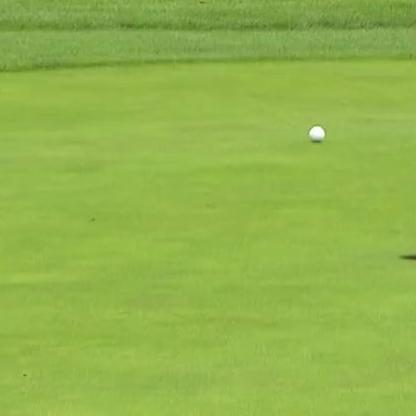golfball: (305, 124, 324, 142)
